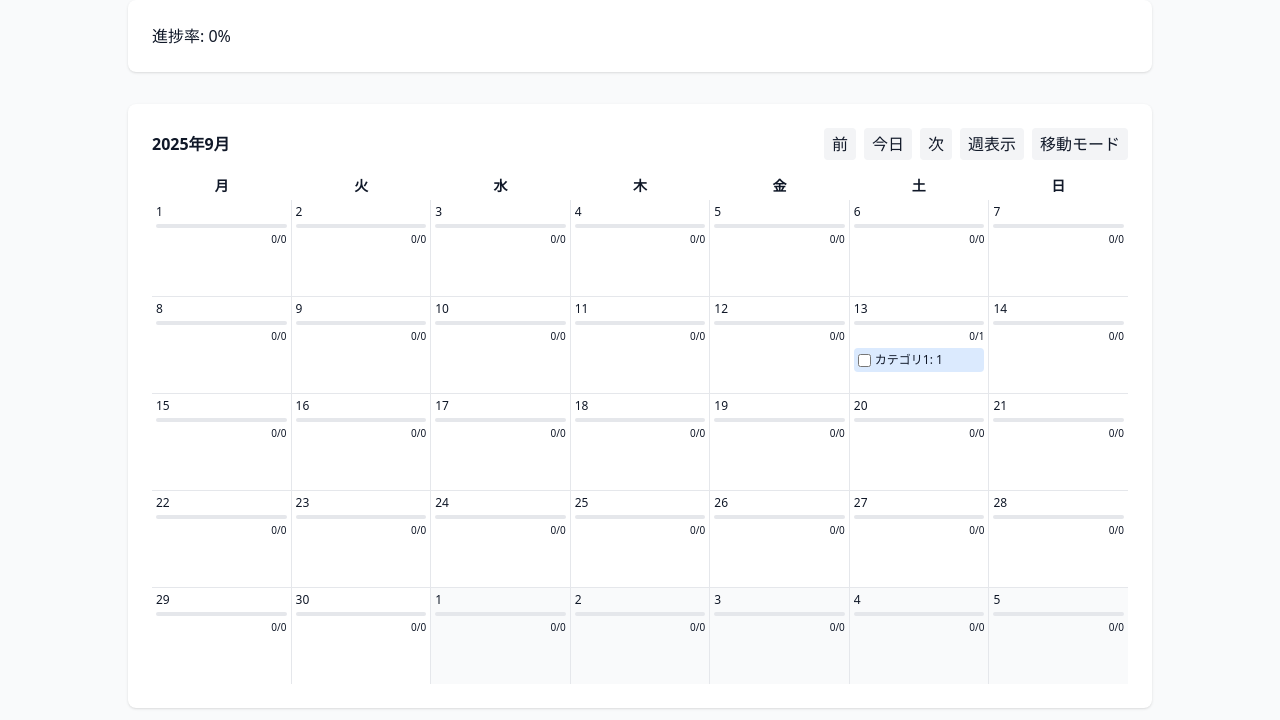
Test case: PlannerPage › updates progress when toggling task completion
(page scrolled)
Expected: the text "進捗率: 0%" is shown, [152,25,231,47]
Click the checkbox at x=864, y=360, box [858,354,871,366]
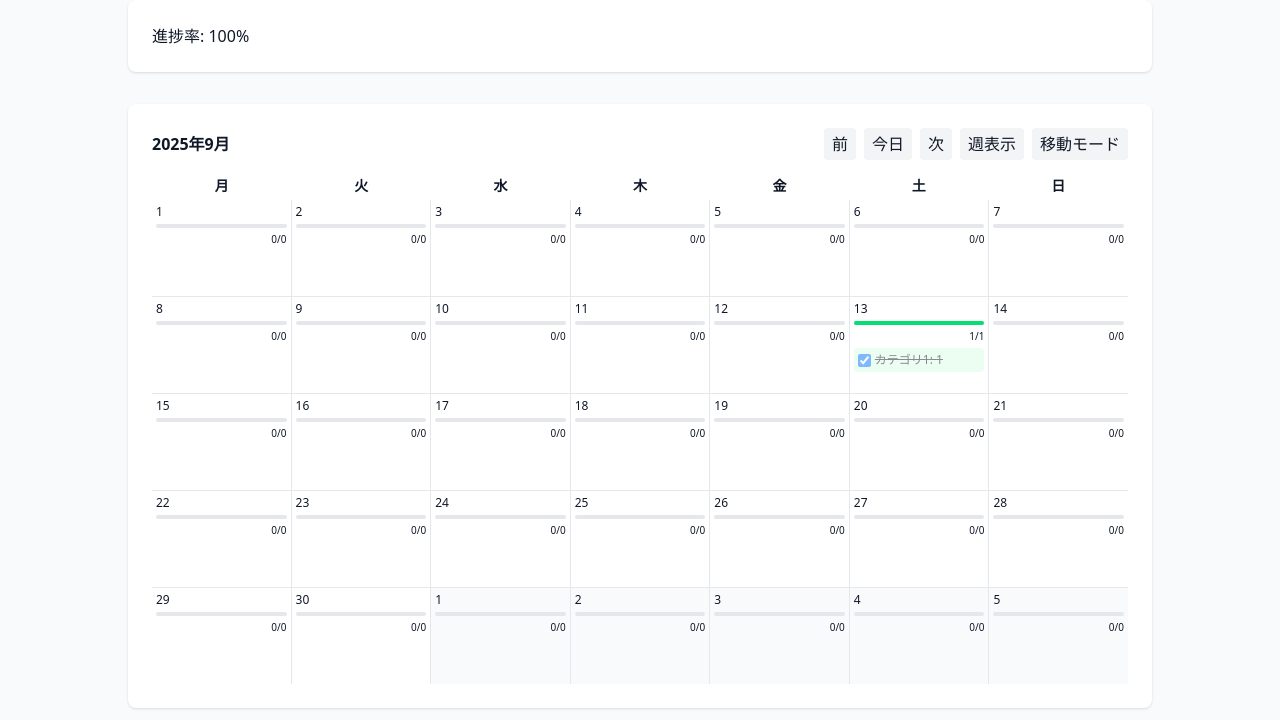
Result: the text "進捗率: 100%" is shown at [152,25,249,47]
